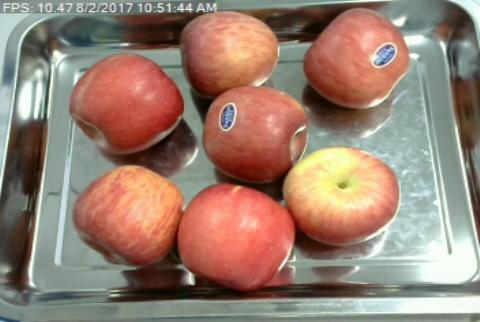apple: (177, 183, 294, 291), (70, 53, 184, 154), (286, 146, 402, 244), (303, 8, 410, 110), (73, 167, 182, 266), (204, 87, 309, 183), (182, 11, 280, 93)
